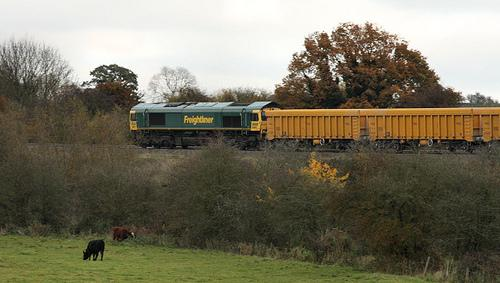Train: (130, 101, 500, 153)
